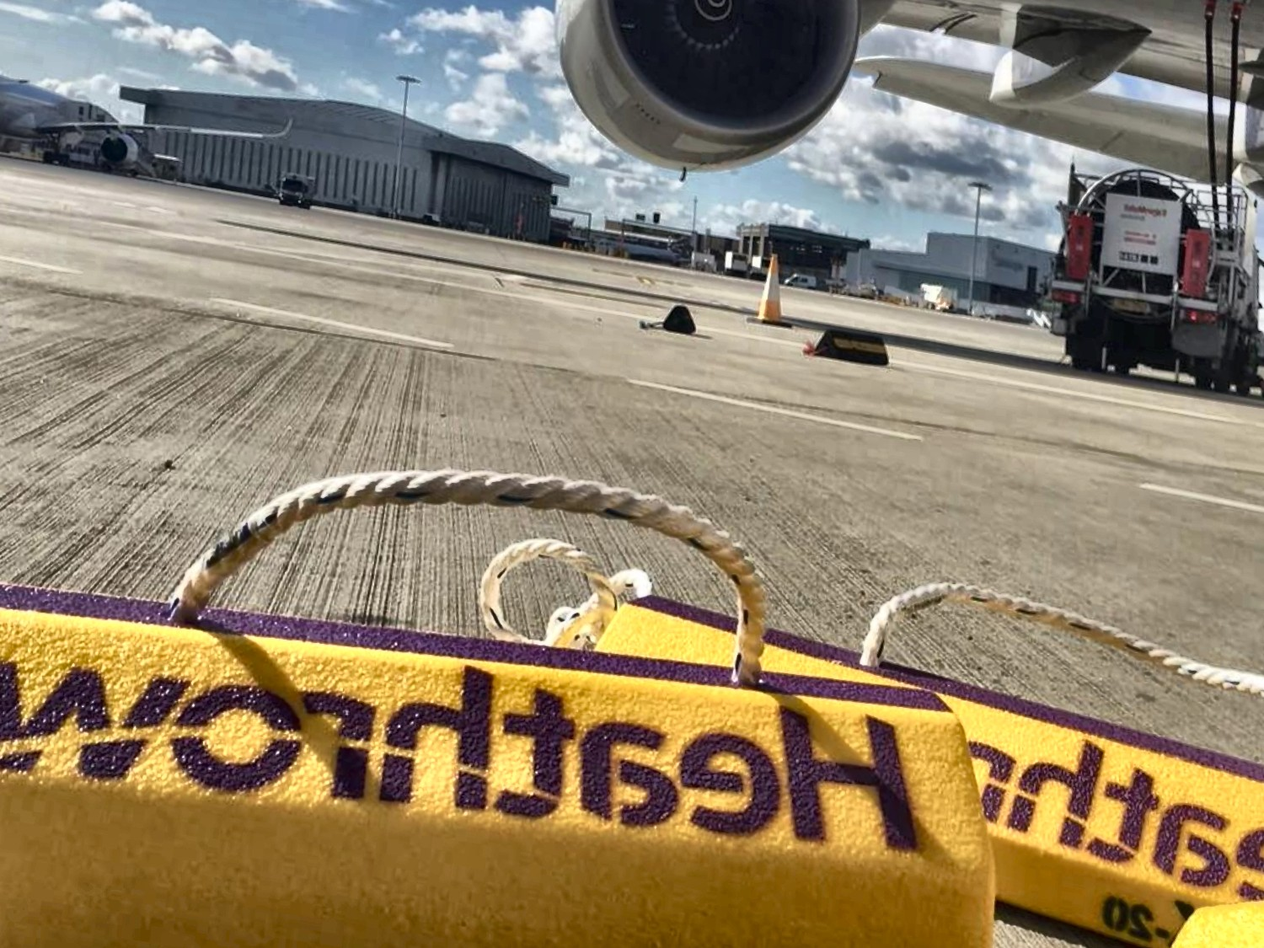chock: (0, 461, 1082, 948), (546, 534, 1264, 948)
